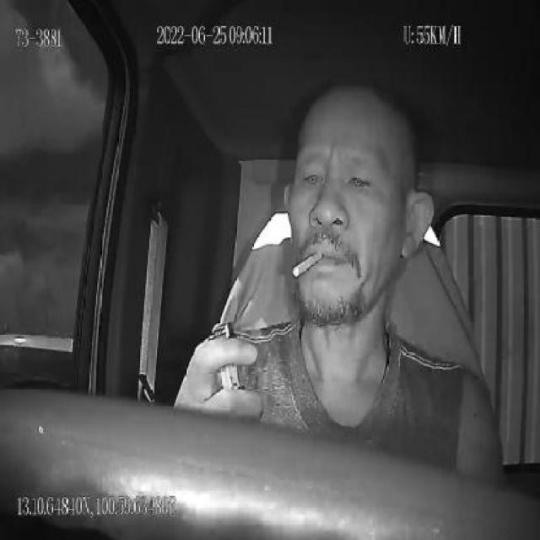smoking: (292, 249, 323, 278)
